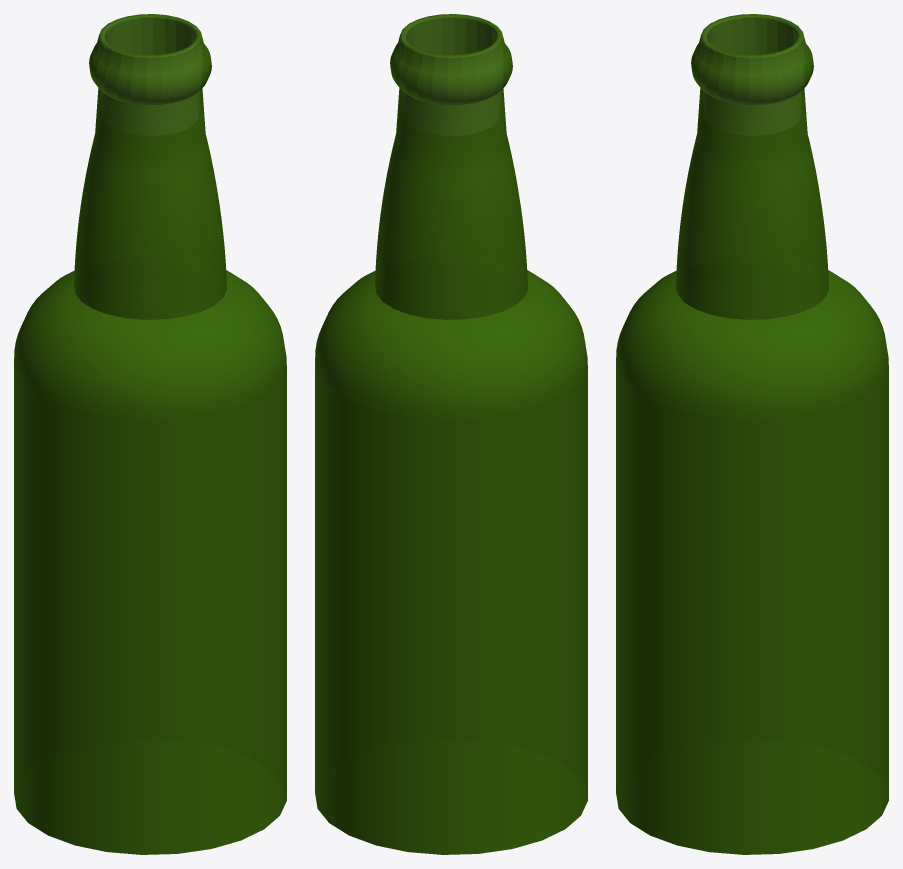
The picture shows the model from 3 angles, left to right: view 1: azimuth 30°, elevation 25°; view 2: azimuth 150°, elevation 25°; view 3: azimuth 270°, elevation 25°; orthographic projection.
Parts seen in each view (by area): view 1: SketchUp; view 2: SketchUp; view 3: SketchUp.
Boxes of the visible parts, bbox=[...] form: SketchUp: bbox=[14, 14, 286, 854]; SketchUp: bbox=[315, 14, 587, 854]; SketchUp: bbox=[616, 14, 888, 854].
Bounding box in the file's own units: 31.43 × 31.43 × 96.97.
